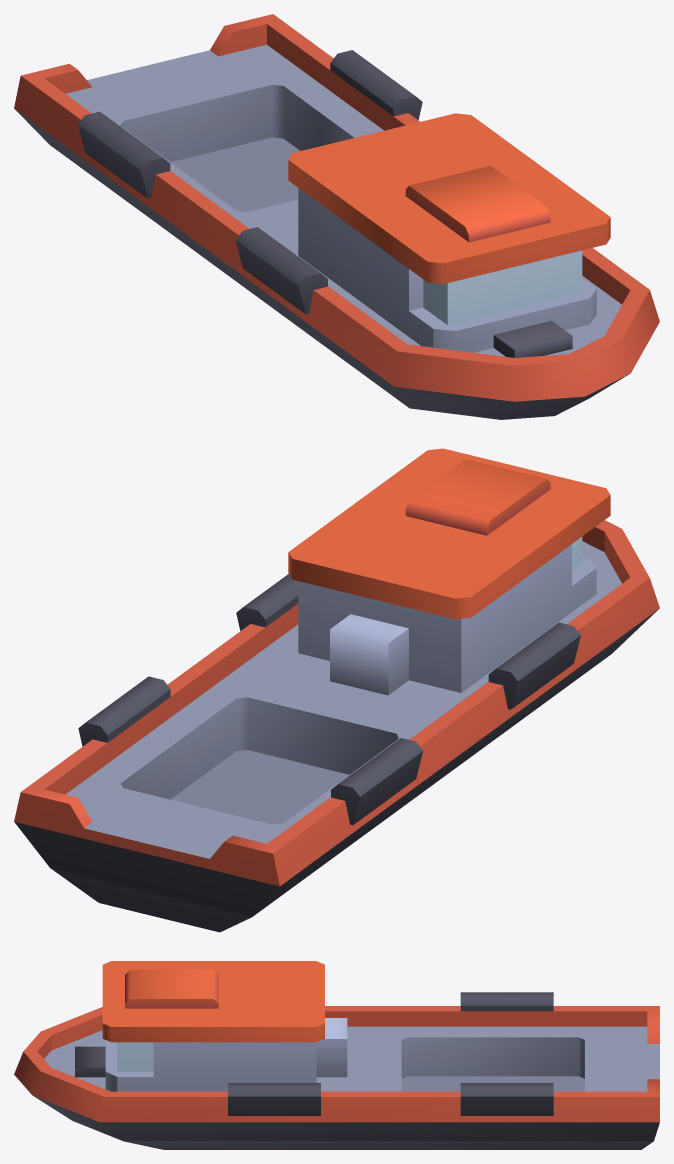
File: ship-cargo-c.glb
3 views of the same model, one above another, from view 1: azimuth 30°, elevation 25°; view 2: azimuth 150°, elevation 25°; view 3: azimuth 270°, elevation 25° (orthographic). The views are drawn at different scales.
Parts seen in each view (by area): view 1: ship-cargo-c; view 2: ship-cargo-c; view 3: ship-cargo-c.
Boxes of the visible parts, box(x1,y1,x2,y2) form: ship-cargo-c: box(14, 14, 659, 419); ship-cargo-c: box(14, 448, 659, 932); ship-cargo-c: box(14, 961, 659, 1149).
Size of the model in its own units: 3.92 by 2.59 by 10.55.
Materials: 1 (1 with a texture image).
